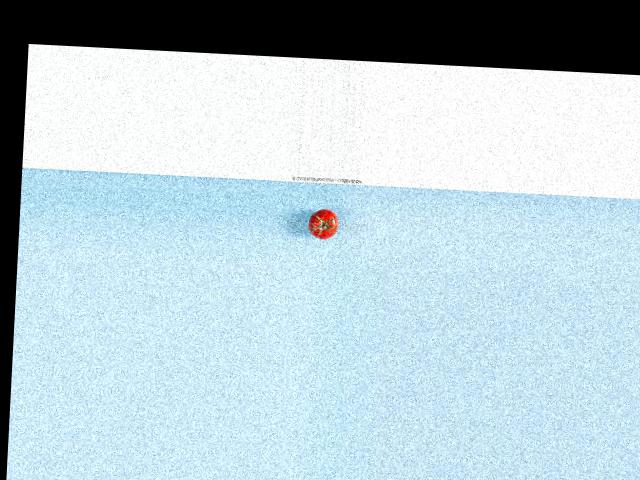tomato: (309, 207, 338, 239)
